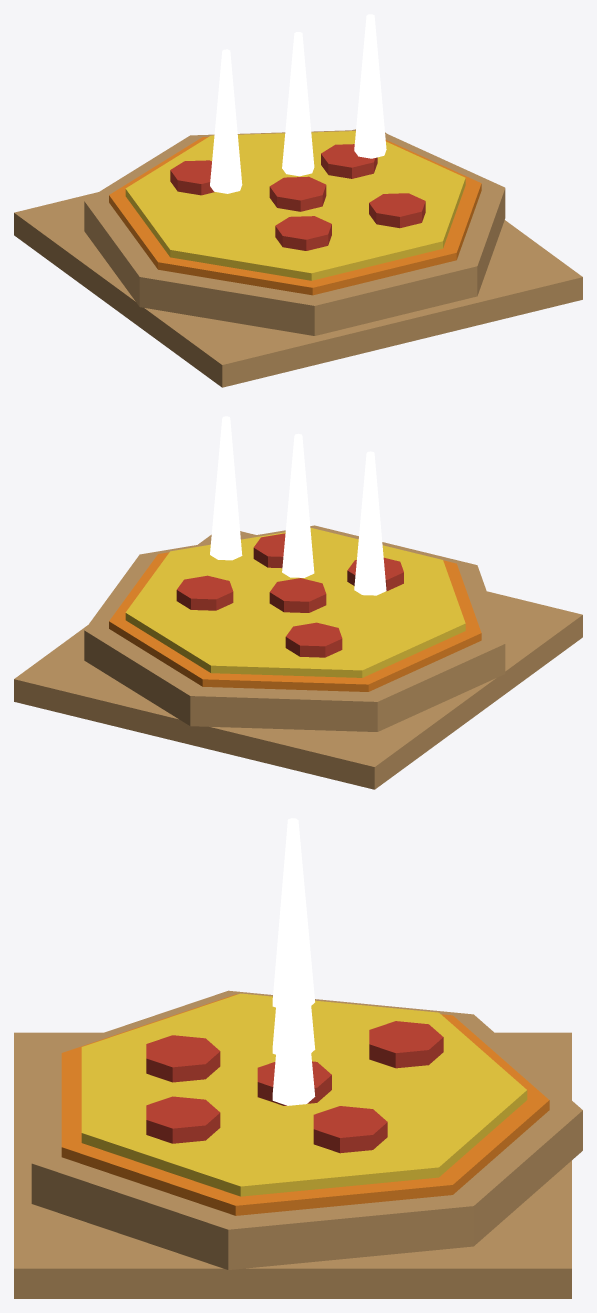
Rendered from pizza-lod1.glb.
3 views of the same model, one above another, from view 1: azimuth 30°, elevation 25°; view 2: azimuth 150°, elevation 25°; view 3: azimuth 270°, elevation 25° (orthographic). The views are drawn at different scales.
Parts seen in each view (by area): view 1: pizza; view 2: pizza; view 3: pizza.
Part boxes in pixels (x1,y1,x2,y2): pizza: (14, 14, 582, 387); pizza: (14, 416, 582, 789); pizza: (14, 818, 582, 1298).
Bounding box in the file's own units: 0.507 × 0.31 × 0.51.
